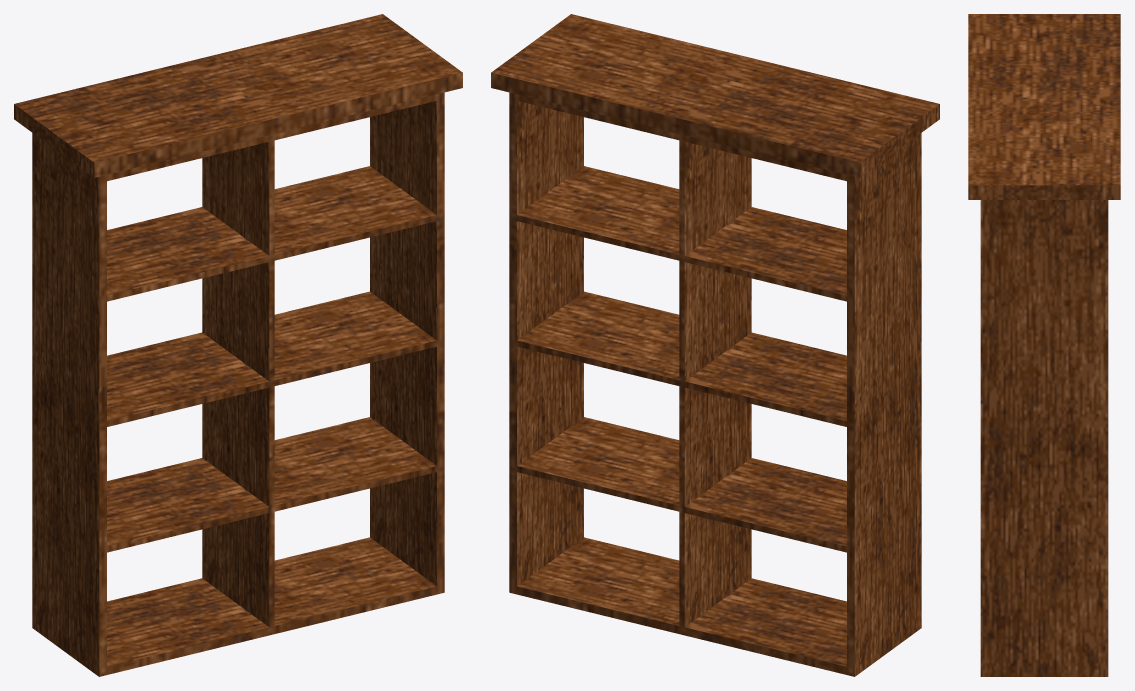
Rendered from SM_Dungeon_Bookshelf.fbx.
3 renders of one model, left to right at view 1: azimuth 30°, elevation 25°; view 2: azimuth 150°, elevation 25°; view 3: azimuth 270°, elevation 25°, orthographic. The views are drawn at different scales.
Parts seen in each view (by area): view 1: SM_Dungeon_Bookshelf; view 2: SM_Dungeon_Bookshelf; view 3: SM_Dungeon_Bookshelf.
Part boxes in pixels (left/top/right/bottom): SM_Dungeon_Bookshelf: left=14, top=14, right=462, bottom=676; SM_Dungeon_Bookshelf: left=491, top=14, right=939, bottom=676; SM_Dungeon_Bookshelf: left=968, top=14, right=1120, bottom=676.
Size of the model in its own units: 180 by 244 by 67.86.
